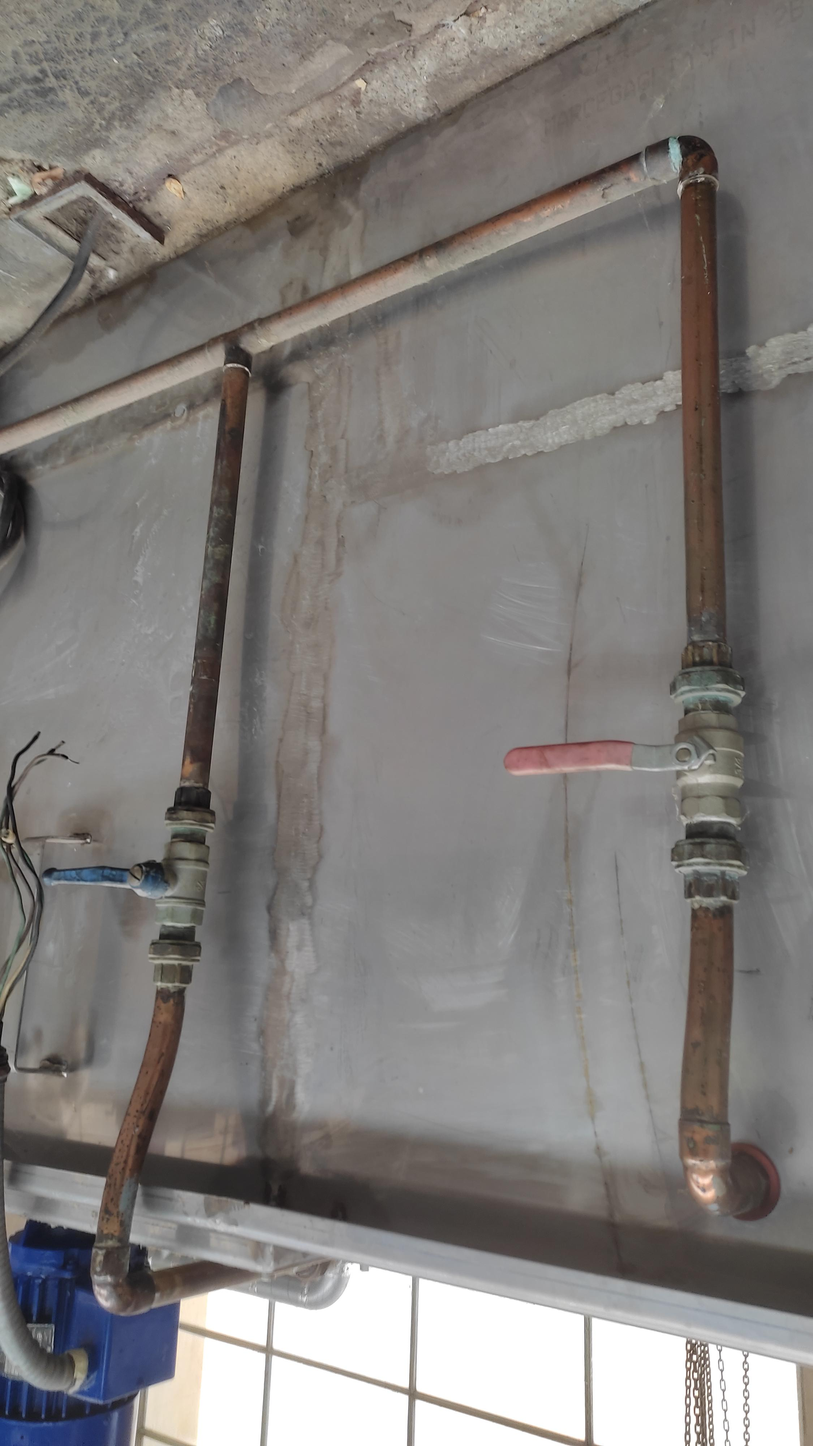closed valve: (501, 708, 751, 827), (42, 838, 213, 929)
